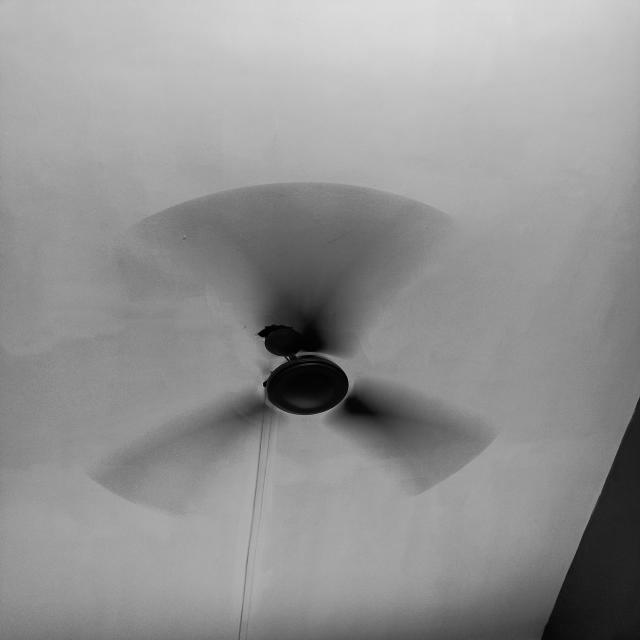fan: (84, 178, 503, 516)
